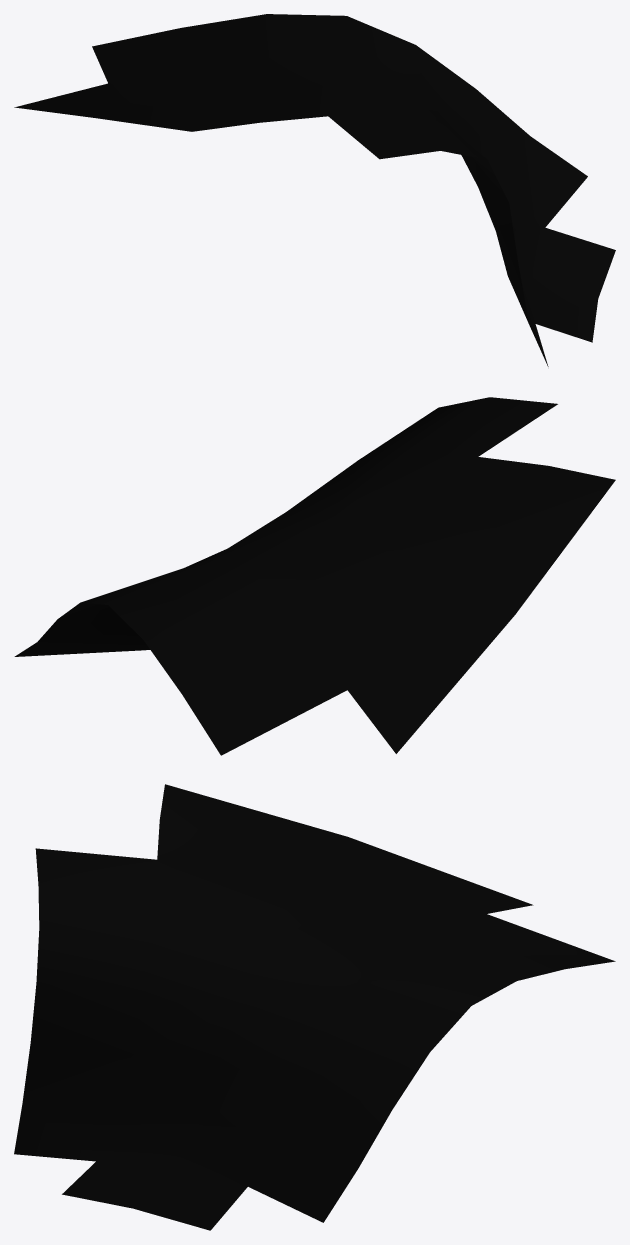
The model's file is HTOWN01_TREESHADOWS29.fbx.
The picture shows the model from 3 angles, top to bottom: view 1: azimuth 30°, elevation 25°; view 2: azimuth 150°, elevation 25°; view 3: azimuth 270°, elevation 25°; orthographic projection. The views are drawn at different scales.
Visible parts, largest first — view 1: HTOWN01_TREESHADOWS29; view 2: HTOWN01_TREESHADOWS29; view 3: HTOWN01_TREESHADOWS29.
Boxes of the visible parts, x1,y1,x2,y2 form: HTOWN01_TREESHADOWS29: (14, 14, 615, 366); HTOWN01_TREESHADOWS29: (14, 397, 615, 755); HTOWN01_TREESHADOWS29: (14, 784, 615, 1230).
Size of the model in its own units: 182323 by 92998 by 205381.
Materials: 1 (1 with a texture image).
